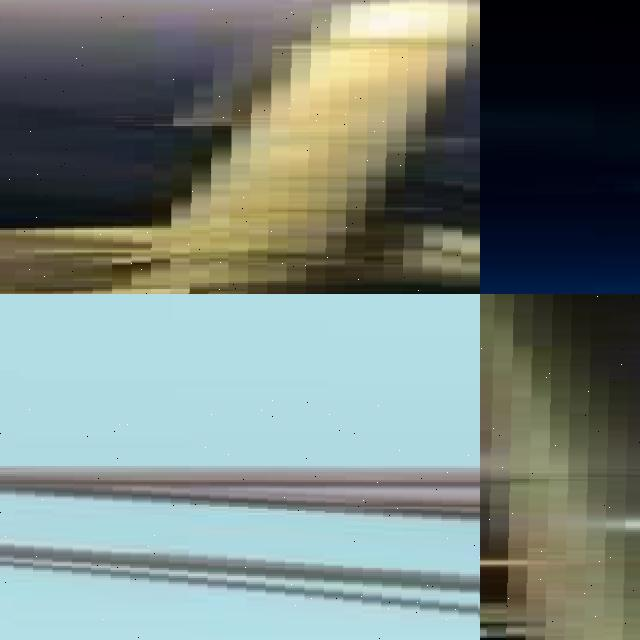street light: (0, 0, 480, 294), (0, 398, 480, 640), (480, 294, 640, 640), (595, 509, 640, 550)
